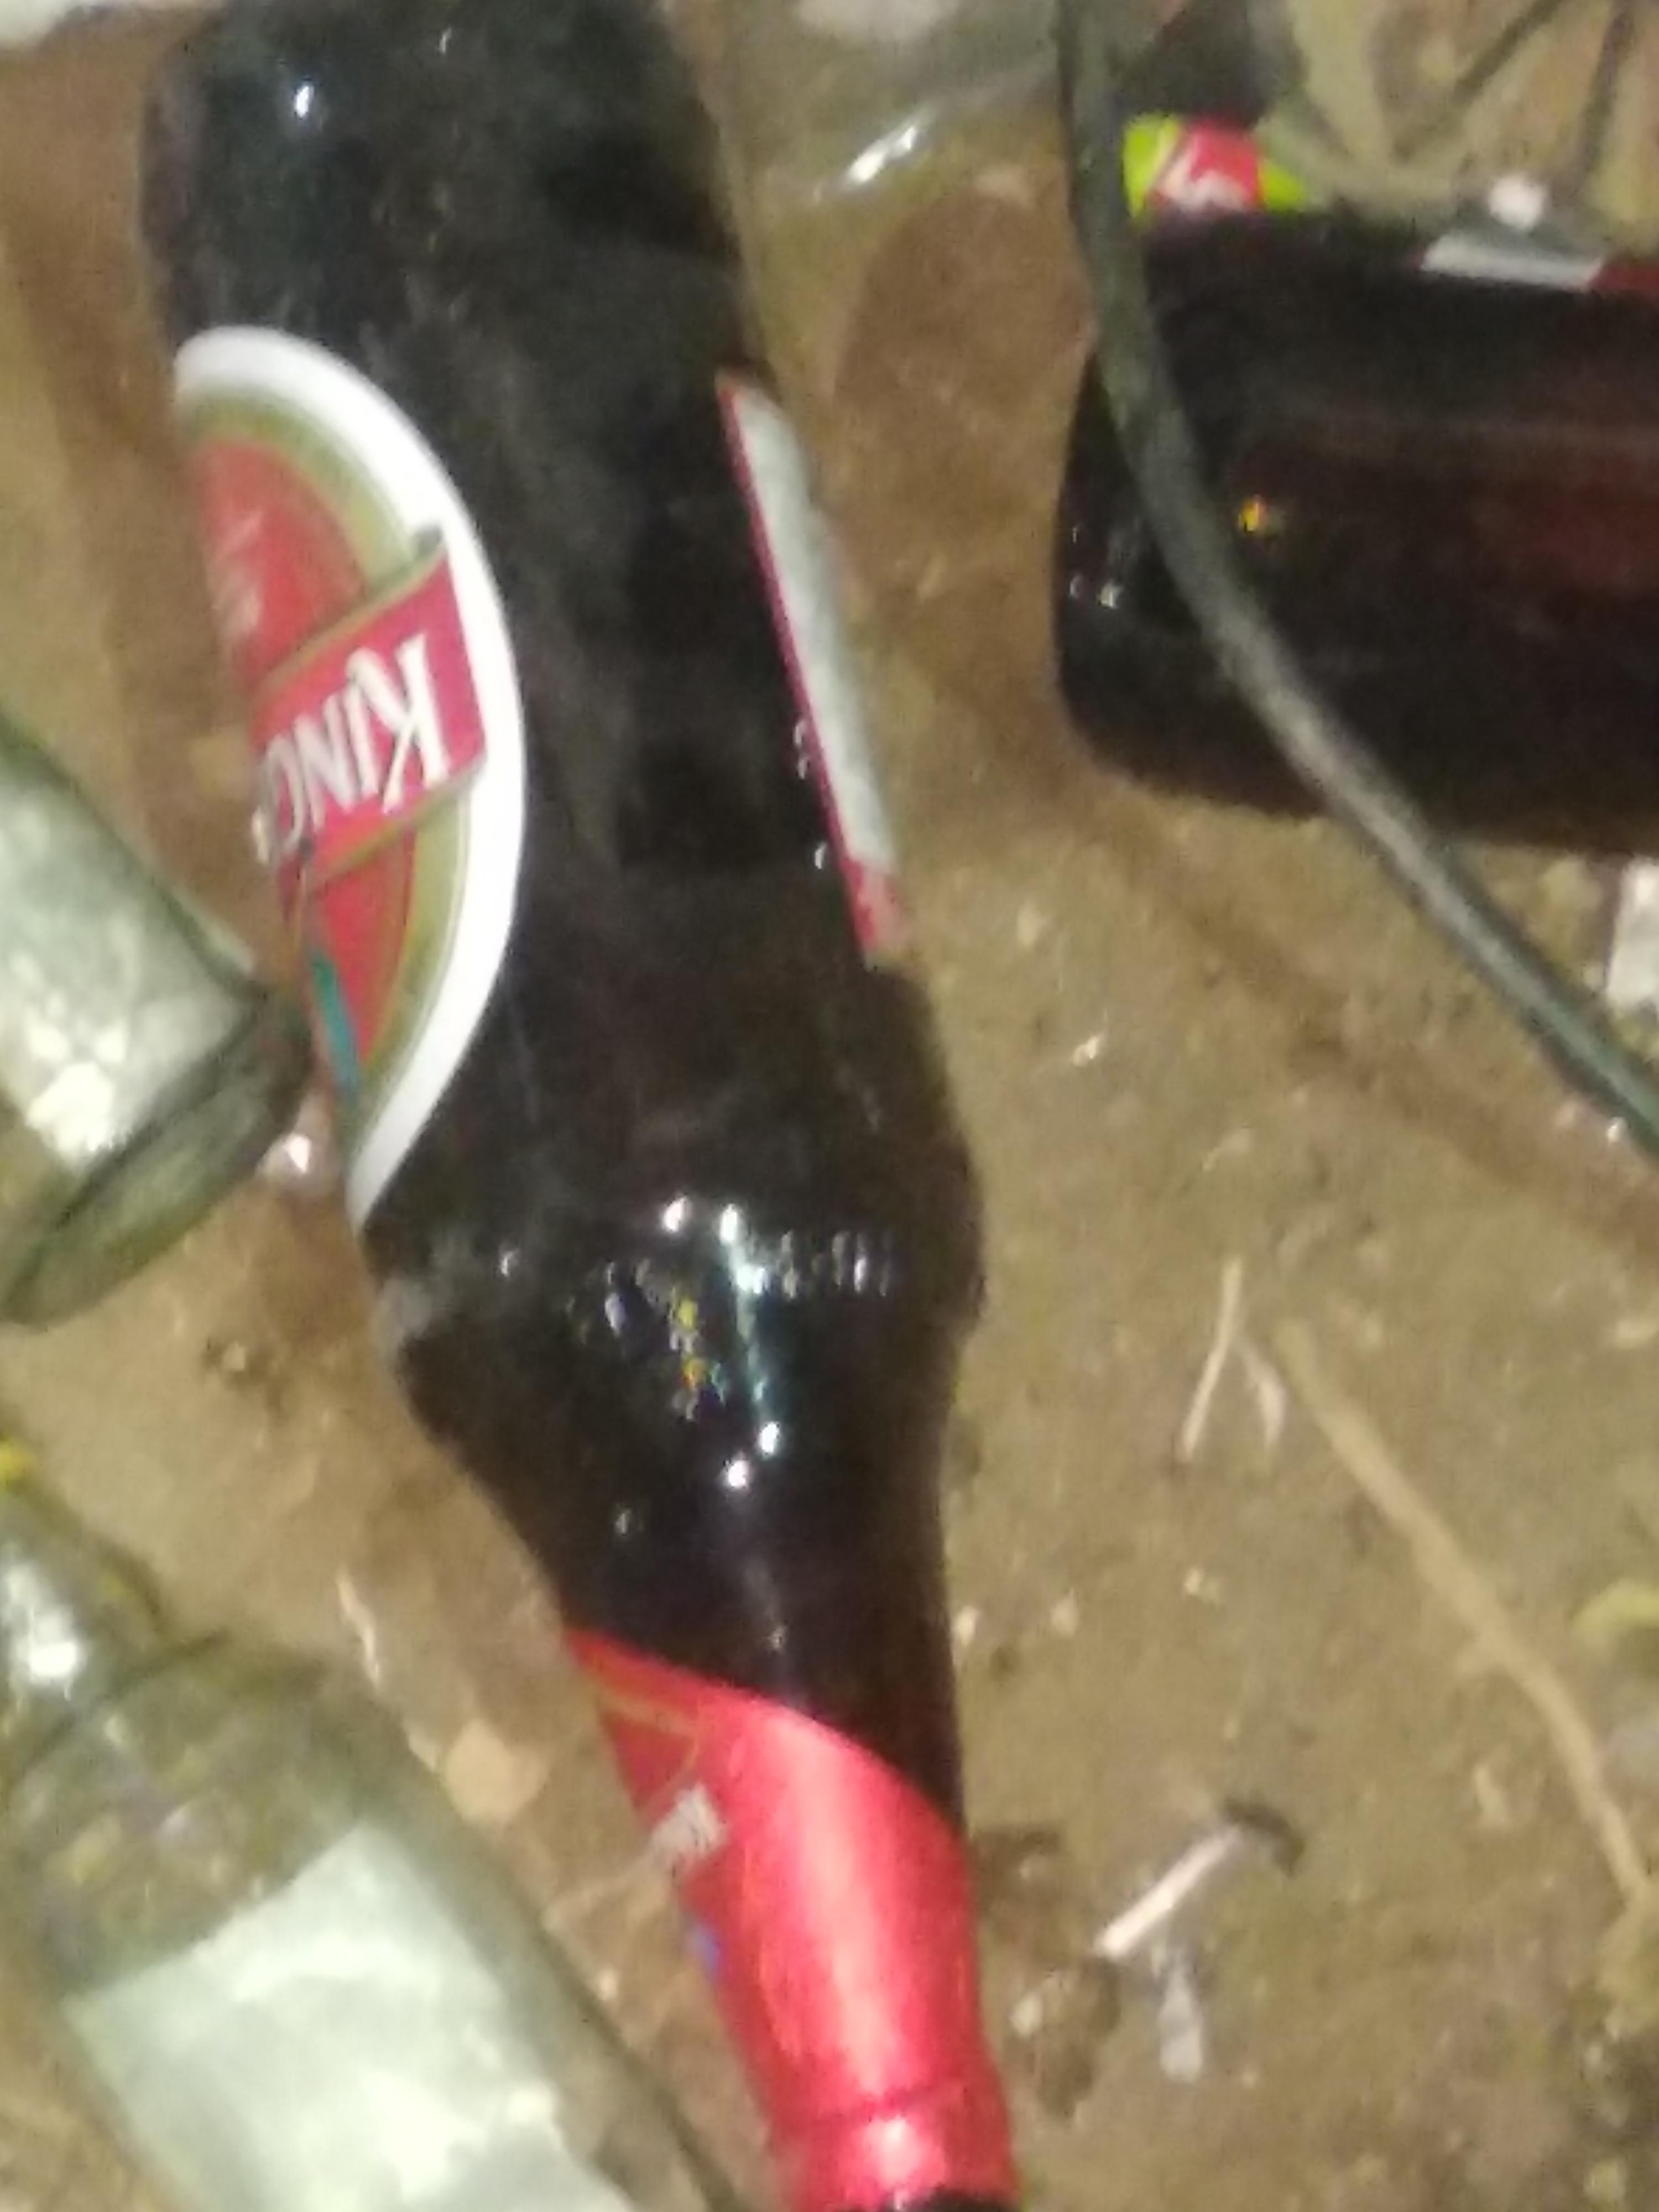organic: (0, 24, 1636, 2212)
